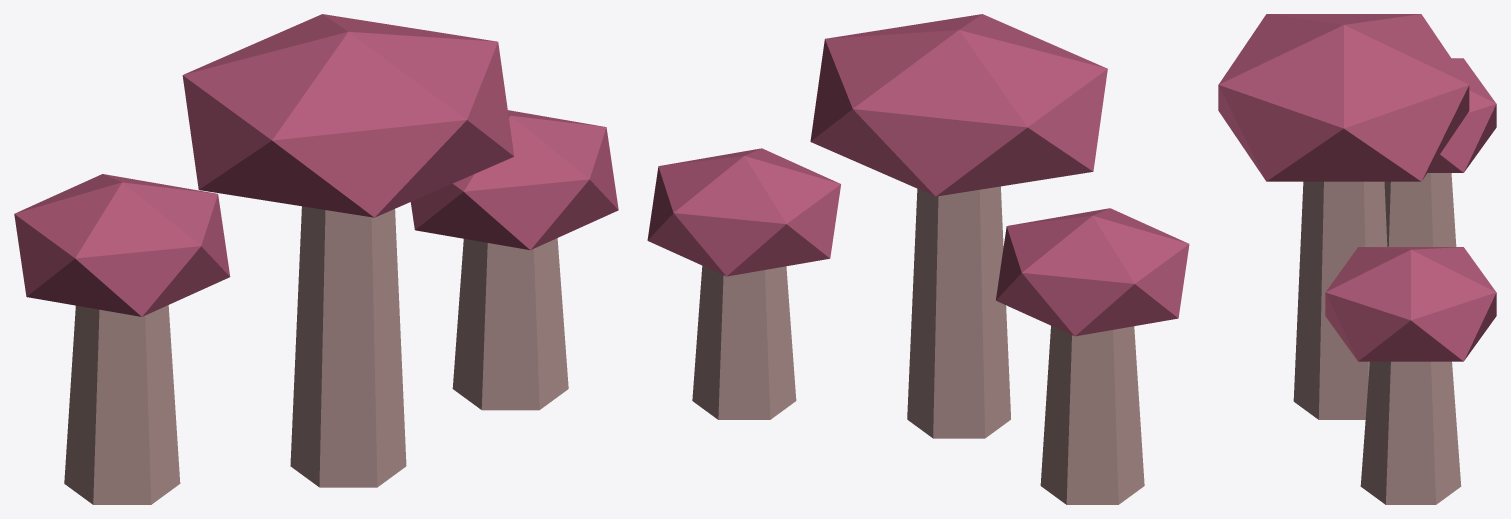
File: pg_mushrooms.fbx
The picture shows the model from 3 angles, left to right: view 1: azimuth 30°, elevation 25°; view 2: azimuth 150°, elevation 25°; view 3: azimuth 270°, elevation 25°; orthographic projection. The views are drawn at different scales.
Visible parts, largest first — view 1: GEO-MushroomCap, GEO-MushroomStem, GEO-MushroomCap.002, GEO-MushroomStem.002, GEO-MushroomCap.001, GEO-MushroomStem.001; view 2: GEO-MushroomCap, GEO-MushroomStem, GEO-MushroomCap.001, GEO-MushroomCap.002, GEO-MushroomStem.002, GEO-MushroomStem.001; view 3: GEO-MushroomCap, GEO-MushroomCap.001, GEO-MushroomStem, GEO-MushroomStem.001, GEO-MushroomStem.002, GEO-MushroomCap.002.
Boxes of the visible parts, x1=… form: GEO-MushroomCap: x1=182, y1=14, x2=514, y2=217; GEO-MushroomStem: x1=290, y1=206, x2=406, y2=487; GEO-MushroomCap.002: x1=14, y1=174, x2=230, y2=316; GEO-MushroomStem.002: x1=64, y1=305, x2=180, y2=504; GEO-MushroomCap.001: x1=410, y1=110, x2=618, y2=250; GEO-MushroomStem.001: x1=452, y1=238, x2=568, y2=410; GEO-MushroomCap: x1=810, y1=14, x2=1107, y2=196; GEO-MushroomStem: x1=907, y1=186, x2=1010, y2=438; GEO-MushroomCap.001: x1=647, y1=148, x2=840, y2=276; GEO-MushroomCap.002: x1=996, y1=208, x2=1189, y2=336; GEO-MushroomStem.002: x1=1040, y1=326, x2=1144, y2=504; GEO-MushroomStem.001: x1=692, y1=265, x2=796, y2=419; GEO-MushroomCap: x1=1218, y1=14, x2=1469, y2=181; GEO-MushroomCap.001: x1=1325, y1=247, x2=1496, y2=361; GEO-MushroomStem: x1=1293, y1=181, x2=1387, y2=419; GEO-MushroomStem.001: x1=1360, y1=361, x2=1461, y2=504; GEO-MushroomStem.002: x1=1384, y1=173, x2=1456, y2=246; GEO-MushroomCap.002: x1=1427, y1=58, x2=1496, y2=172.
Bounding box in the file's own units: 86.62 × 62 × 41.47.
